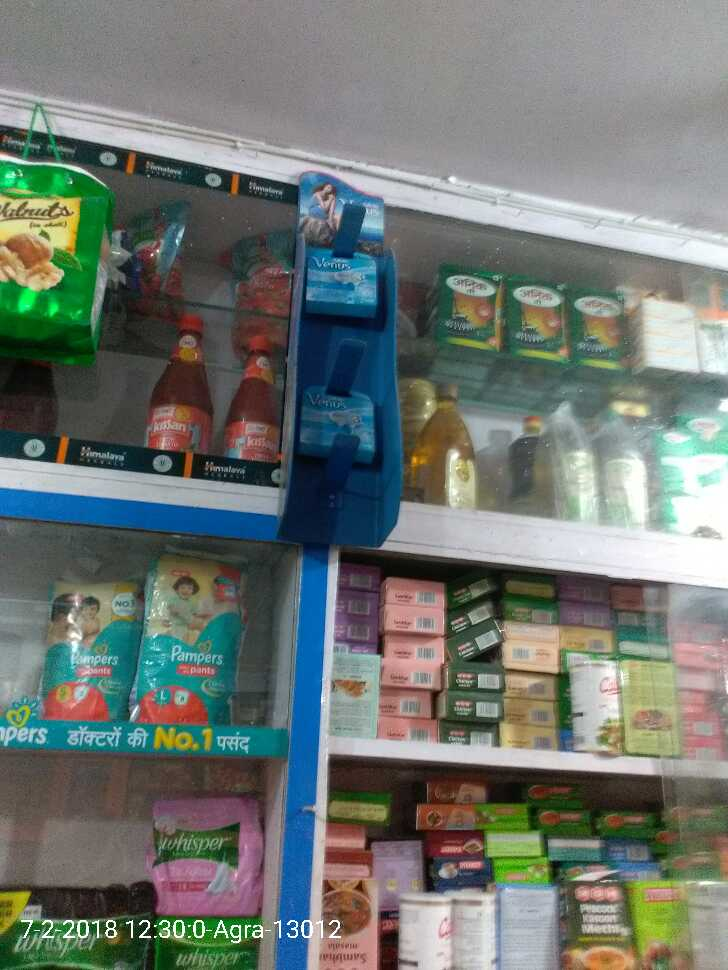beauty: (288, 369, 376, 457), (297, 238, 388, 310)
pharmacy: (139, 548, 245, 735), (141, 787, 269, 909), (47, 565, 135, 734)
